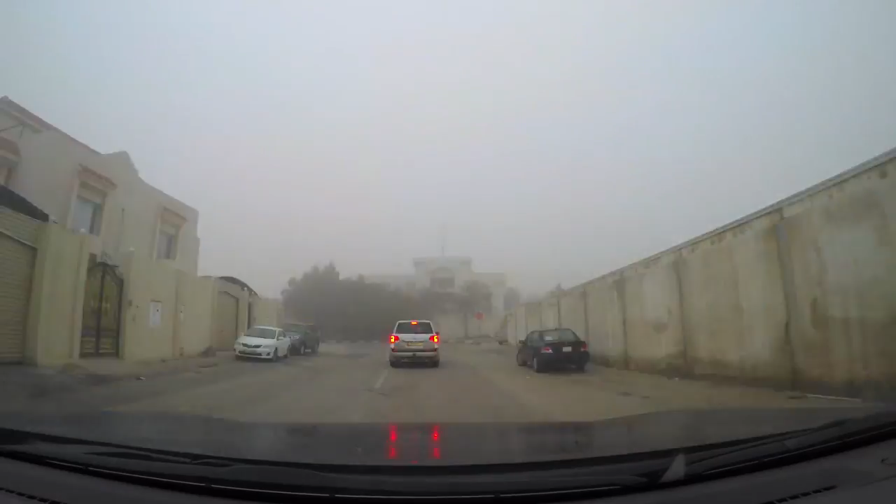car: (515, 326, 591, 374), (387, 319, 440, 369), (232, 324, 292, 362), (272, 321, 320, 355)
